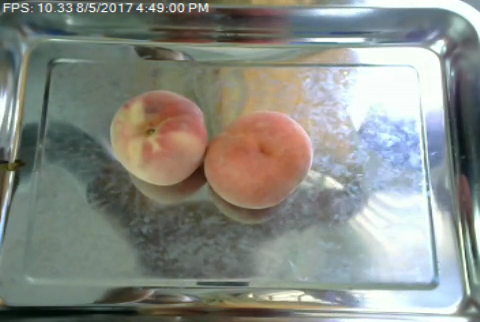Peach: (203, 110, 311, 206), (109, 89, 209, 186)
